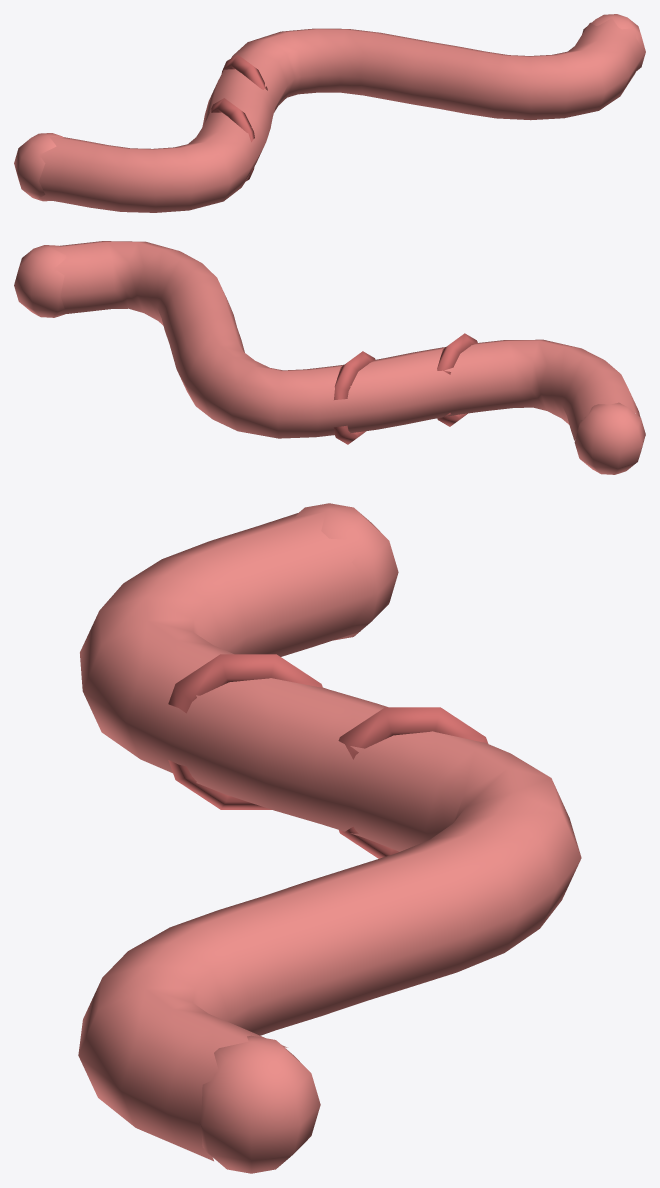
Rendered from worm.glb.
3 renders of one model, top to bottom at view 1: azimuth 30°, elevation 25°; view 2: azimuth 150°, elevation 25°; view 3: azimuth 270°, elevation 25°, orthographic. The views are drawn at different scales.
Visible parts, largest first — view 1: worm; view 2: worm; view 3: worm.
Boxes of the visible parts, box(x1,y1,x2,y2) form: worm: box(14, 14, 645, 212); worm: box(14, 241, 645, 474); worm: box(78, 503, 581, 1173).
Bounding box in the file's own units: 0.1332 × 0.0164 × 0.0479.
